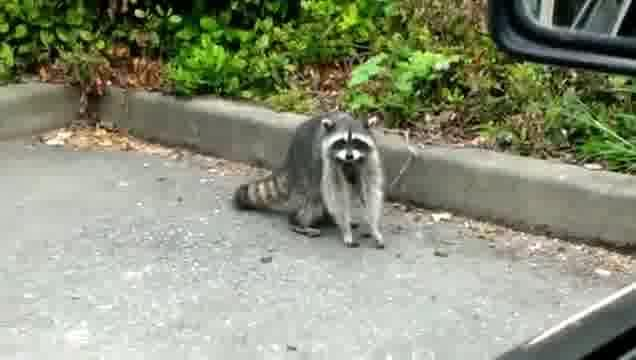raccoon: (232, 109, 387, 253)
